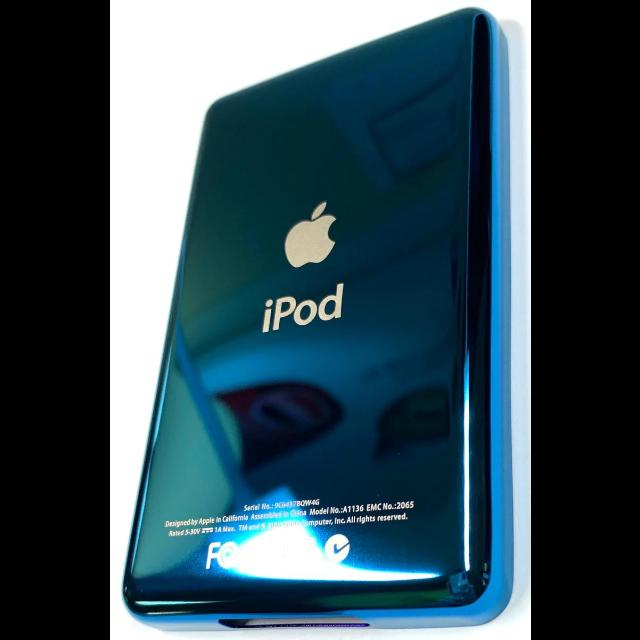Music-Player: (120, 0, 520, 638)
